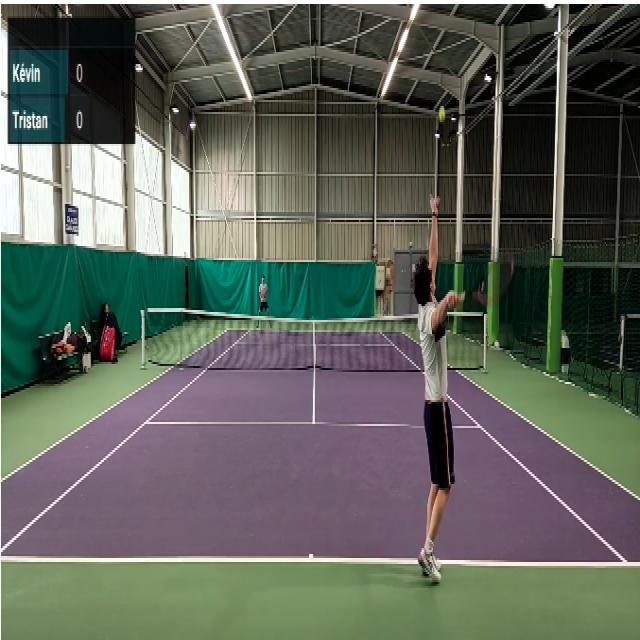ball: (438, 105, 446, 124)
